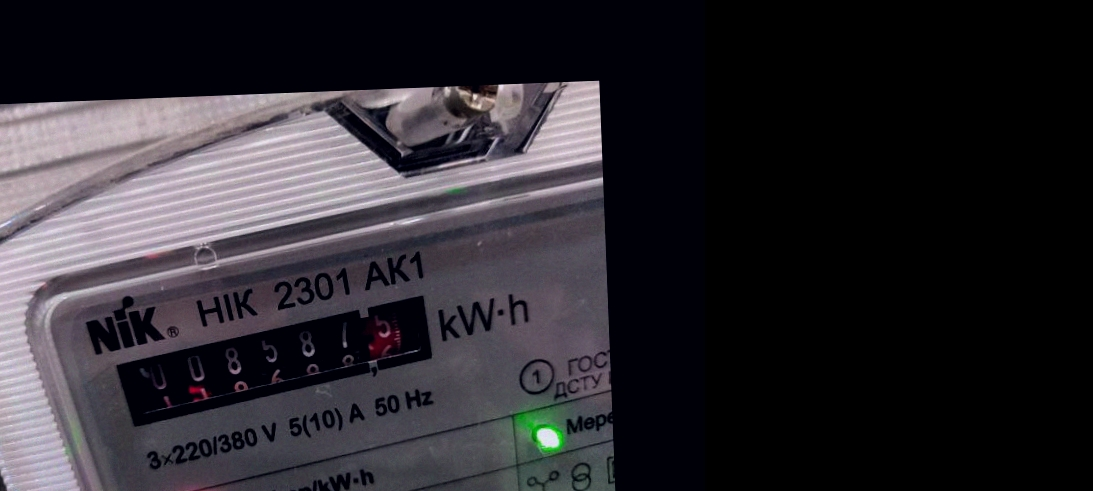0: (182, 349, 209, 384), (144, 358, 171, 391)
5: (257, 333, 281, 365), (370, 306, 393, 338)
6: (377, 341, 395, 359)
7: (332, 317, 355, 352)
8: (220, 343, 246, 376), (294, 325, 318, 359)
screen: (105, 293, 456, 429)
